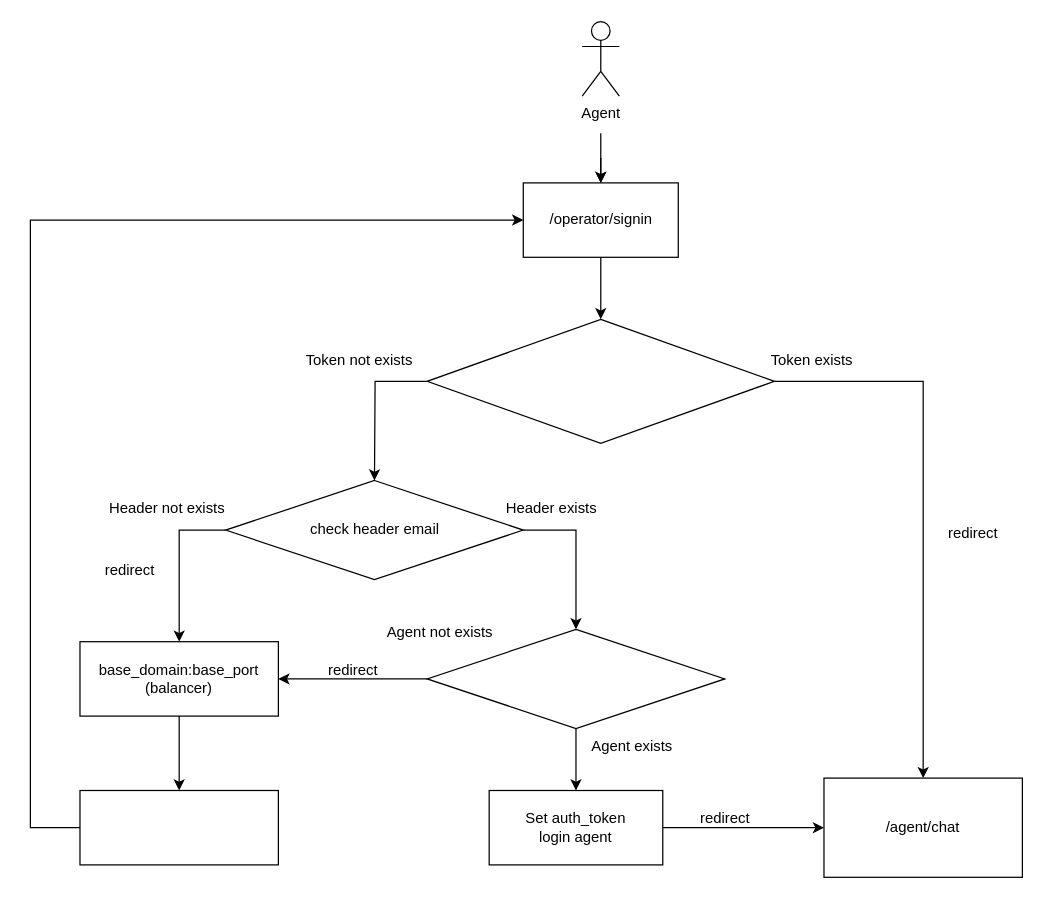
Some shapes in this 1044 by 899 pixel diagram are drawn without their labels. The box of each missing label's shape, as (x1, y1, x2, y2) in pixels:
Add header email:agent_email: (79, 789, 278, 865)
Check auth_token: (426, 318, 774, 443)
try to find agent with email: (426, 628, 725, 728)
